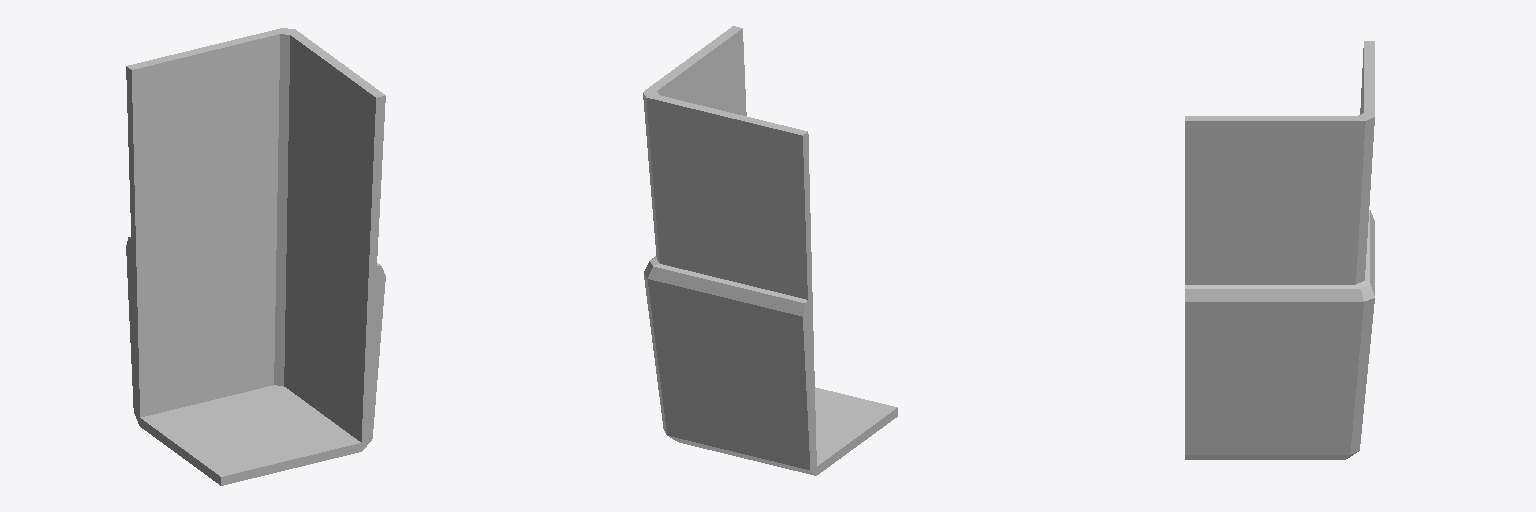
The model's file is base_building_top_right_corner_tile.obj.
3 renders of one model, left to right at view 1: azimuth 30°, elevation 25°; view 2: azimuth 150°, elevation 25°; view 3: azimuth 270°, elevation 25°, orthographic.
Parts seen in each view (by area): view 1: top_right_corner_tile_Cube.003; view 2: top_right_corner_tile_Cube.003; view 3: top_right_corner_tile_Cube.003.
Boxes of the visible parts, box(x1,y1,x2,y2) form: top_right_corner_tile_Cube.003: box(126, 28, 385, 485); top_right_corner_tile_Cube.003: box(643, 26, 897, 475); top_right_corner_tile_Cube.003: box(1185, 41, 1374, 459).
Size of the model in its own units: 1.97 by 4 by 1.97.